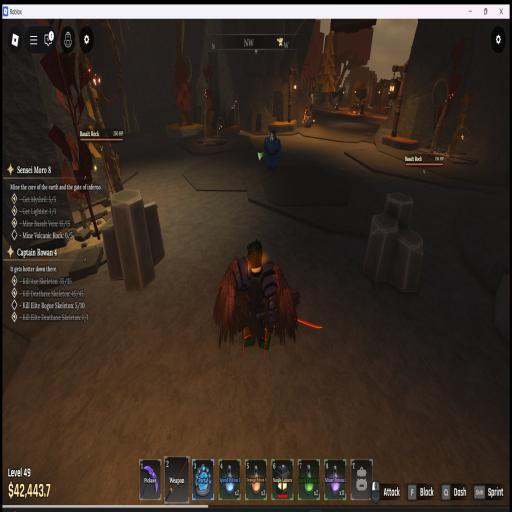player: (213, 240, 300, 347)
rock: (103, 189, 165, 291), (363, 214, 398, 281), (389, 228, 423, 291), (494, 274, 510, 340)
